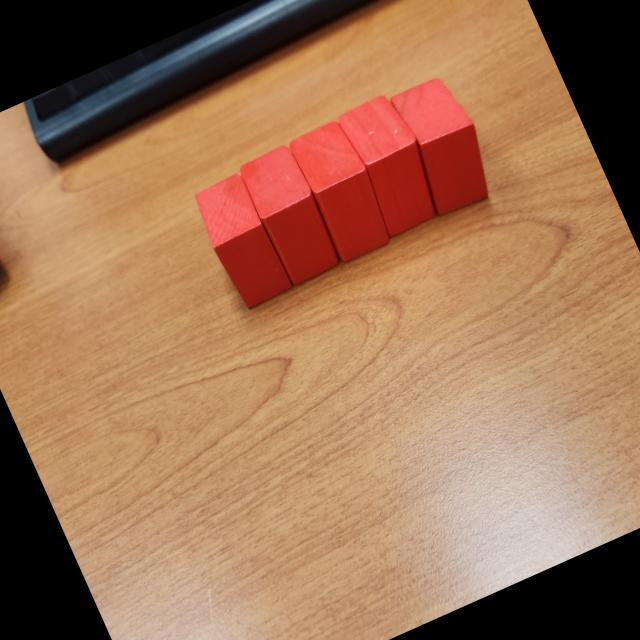red: (383, 68, 505, 222), (334, 88, 449, 240), (285, 115, 399, 266), (236, 142, 346, 289), (188, 170, 296, 314)
